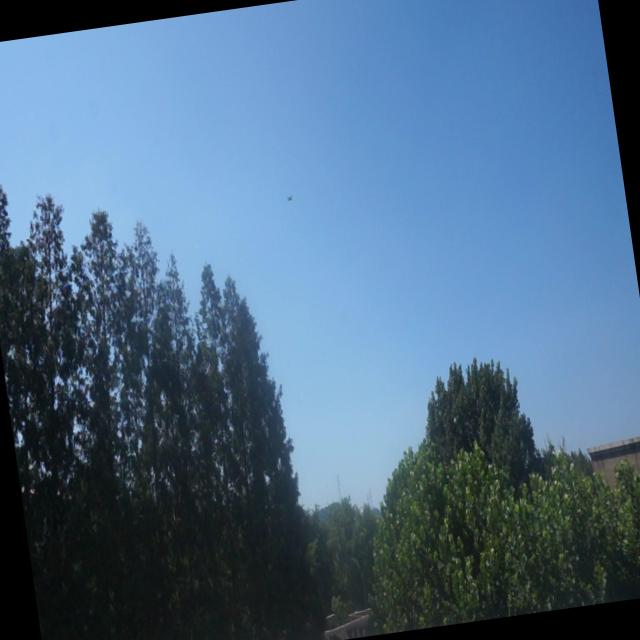drone: (286, 191, 296, 208)
